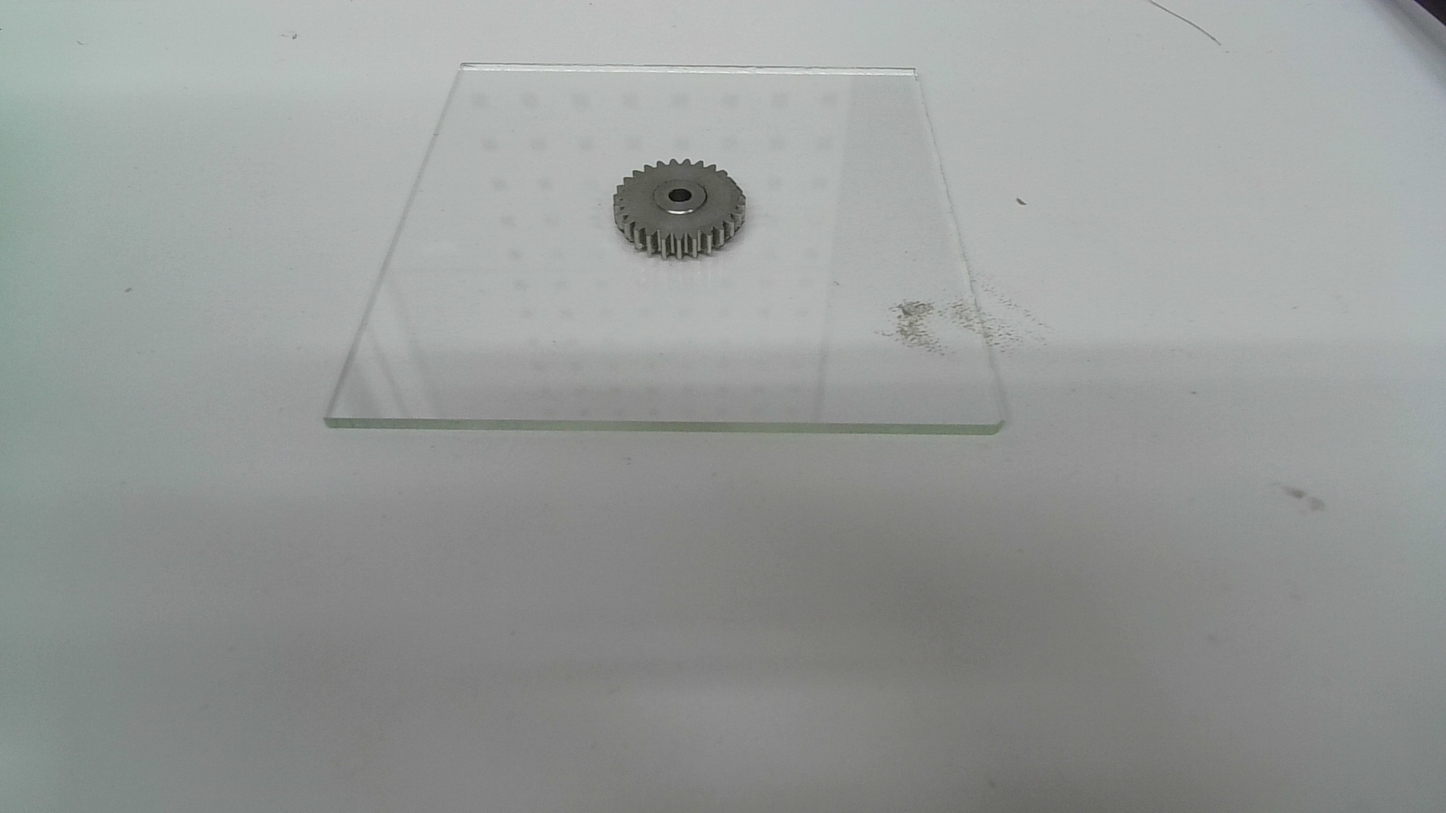gear: (610, 156, 750, 263)
